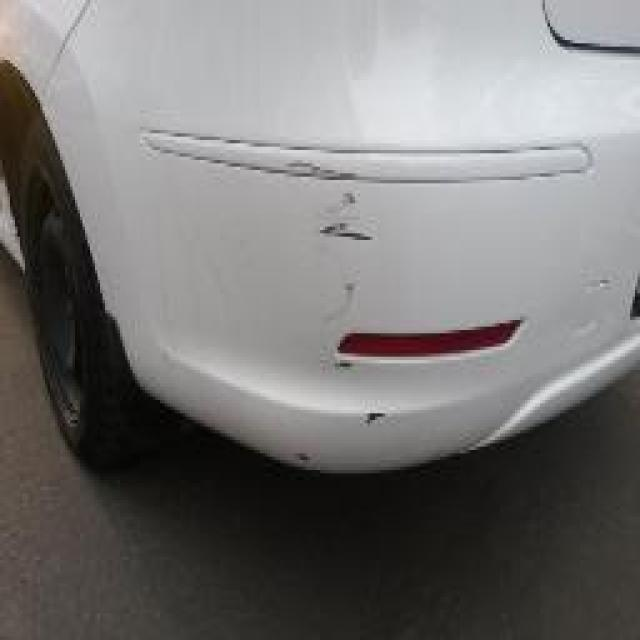Bumper: (270, 137, 410, 483)
